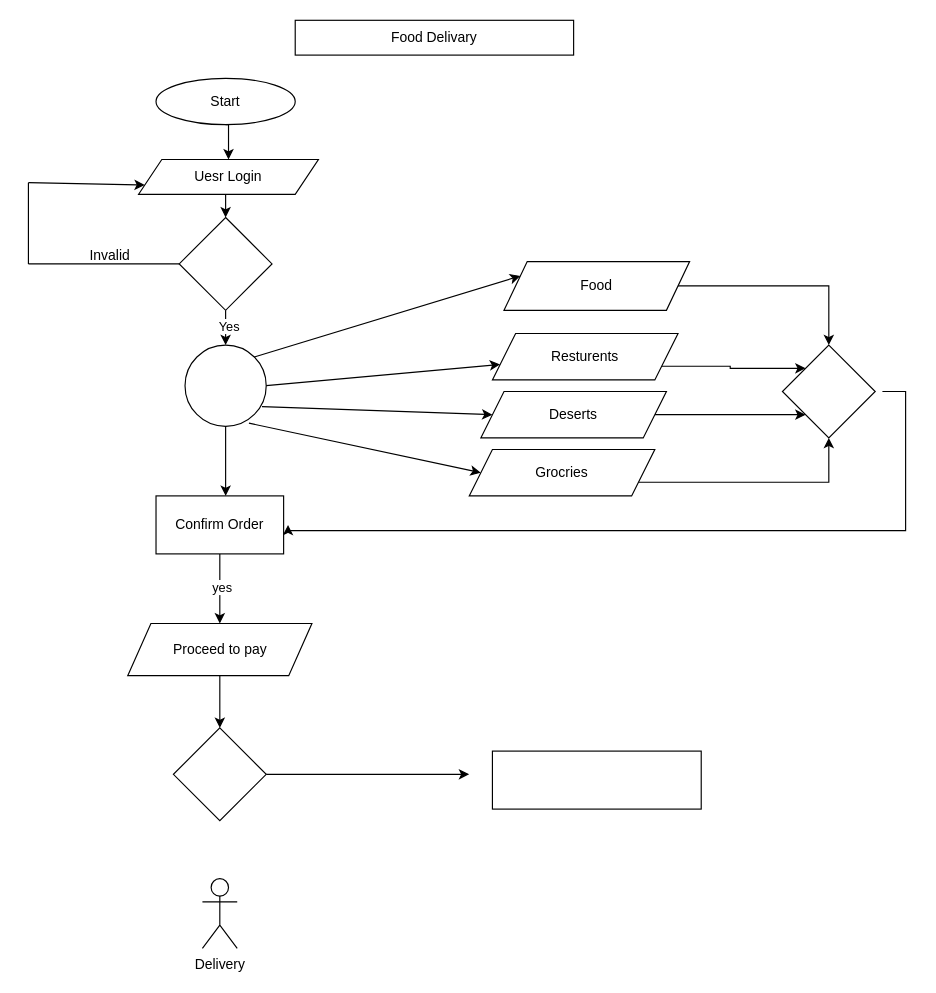
Some shapes in this 936 by 993 pixel diagram are drawn without their labels. Here are the shapes that lost their labels. From the top down, the centre of each, then its label:
pixel 225 263: Check Credentials
pixel 225 385: Search
pixel 828 391: Place Order
pixel 219 774: payment Done
pixel 596 779: payment Unsuccessfull
